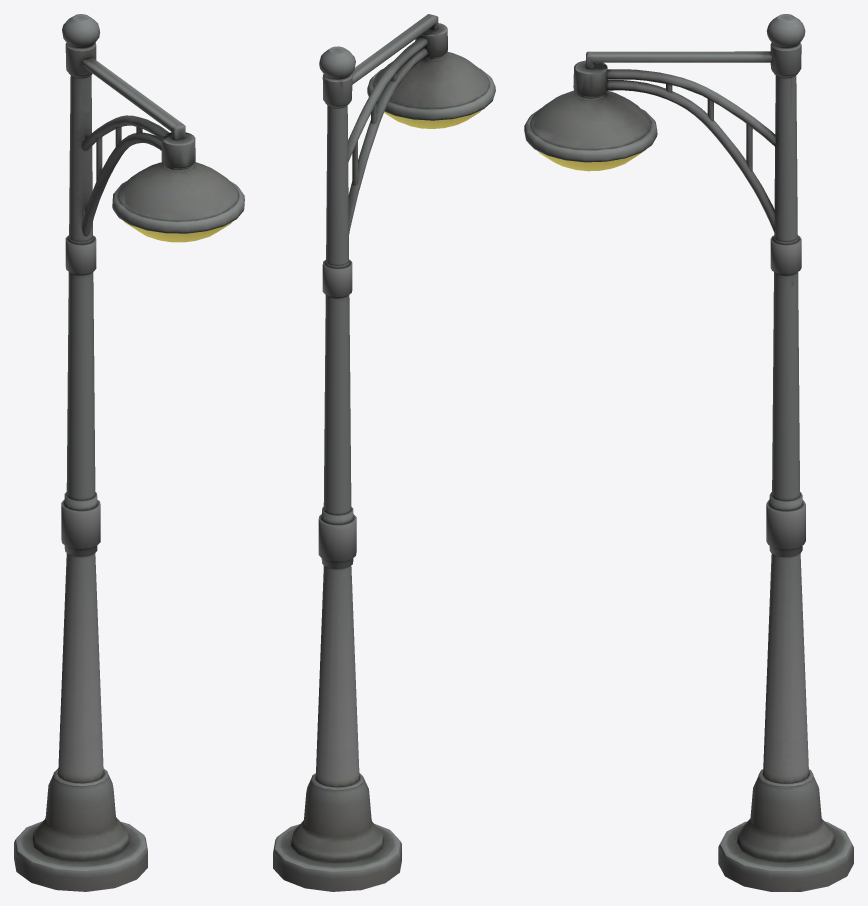
Rendered from PRP_CanalLamp.glb.
The picture shows the model from 3 angles, left to right: view 1: azimuth 30°, elevation 25°; view 2: azimuth 150°, elevation 25°; view 3: azimuth 270°, elevation 25°; orthographic projection. The views are drawn at different scales.
Parts seen in each view (by area): view 1: SM_Street_Light_M_Street_Light_Pole_0, SM_Street_Light_M_Street_Light_Emission_0; view 2: SM_Street_Light_M_Street_Light_Pole_0, SM_Street_Light_M_Street_Light_Emission_0; view 3: SM_Street_Light_M_Street_Light_Pole_0, SM_Street_Light_M_Street_Light_Emission_0.
Boxes of the visible parts, x1,y1,x2,y2 form: SM_Street_Light_M_Street_Light_Pole_0: (14,14,244,891); SM_Street_Light_M_Street_Light_Emission_0: (124,221,232,242); SM_Street_Light_M_Street_Light_Pole_0: (273,14,495,891); SM_Street_Light_M_Street_Light_Emission_0: (384,109,482,128); SM_Street_Light_M_Street_Light_Pole_0: (524,14,853,891); SM_Street_Light_M_Street_Light_Emission_0: (538,149,646,171).
Size of the model in its own units: 0.4273 by 2.99 by 1.06.
2 materials, 2 textured.
